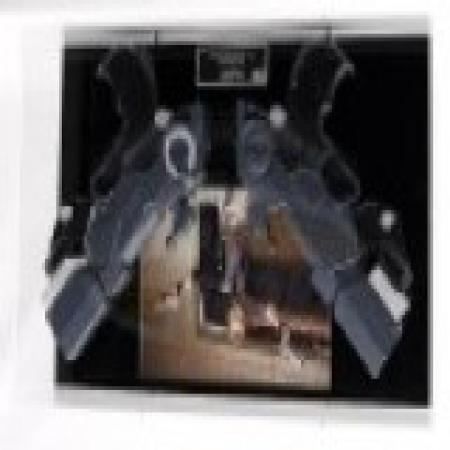Pistol: (239, 48, 413, 382), (51, 45, 191, 375)
